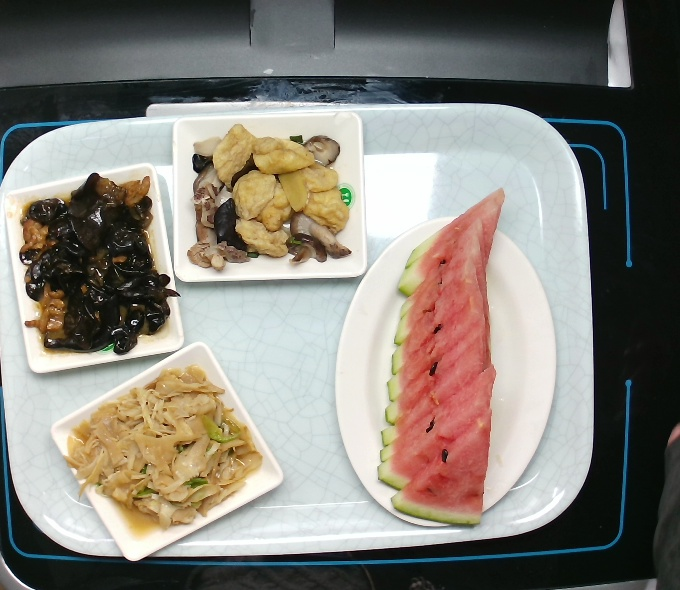wcq-LuSun: (56, 358, 267, 545)
wcq-MuErChaoRou: (12, 172, 181, 363)
wcq-XiGua: (376, 183, 519, 533)
wcq-YouPaoPaiGu: (184, 122, 356, 278)
